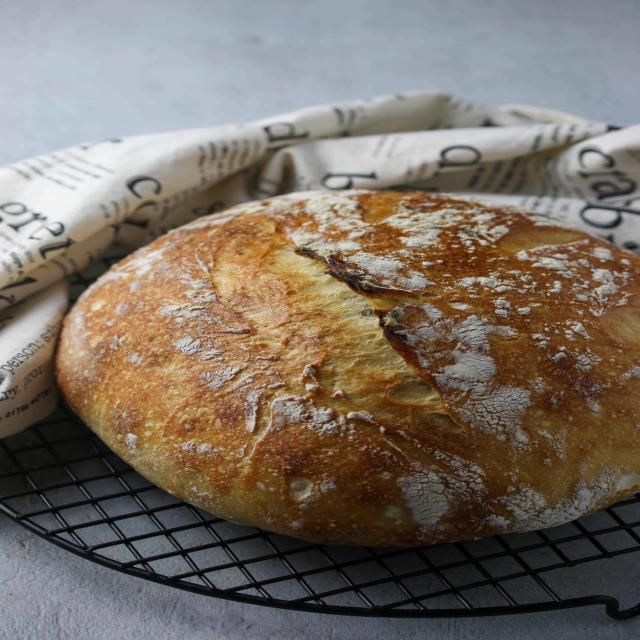Maltese-Bread: (57, 192, 640, 547)
